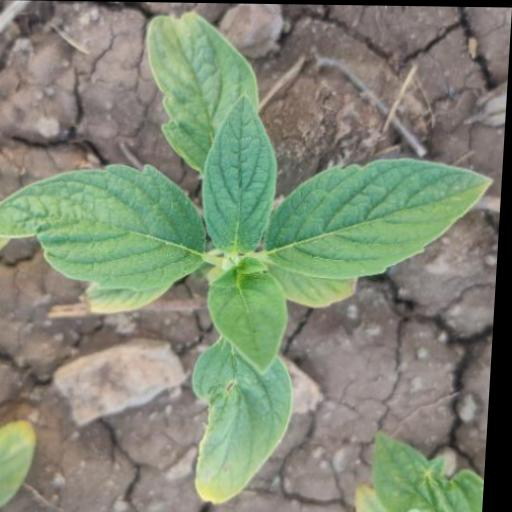crop: (0, 17, 496, 512)
